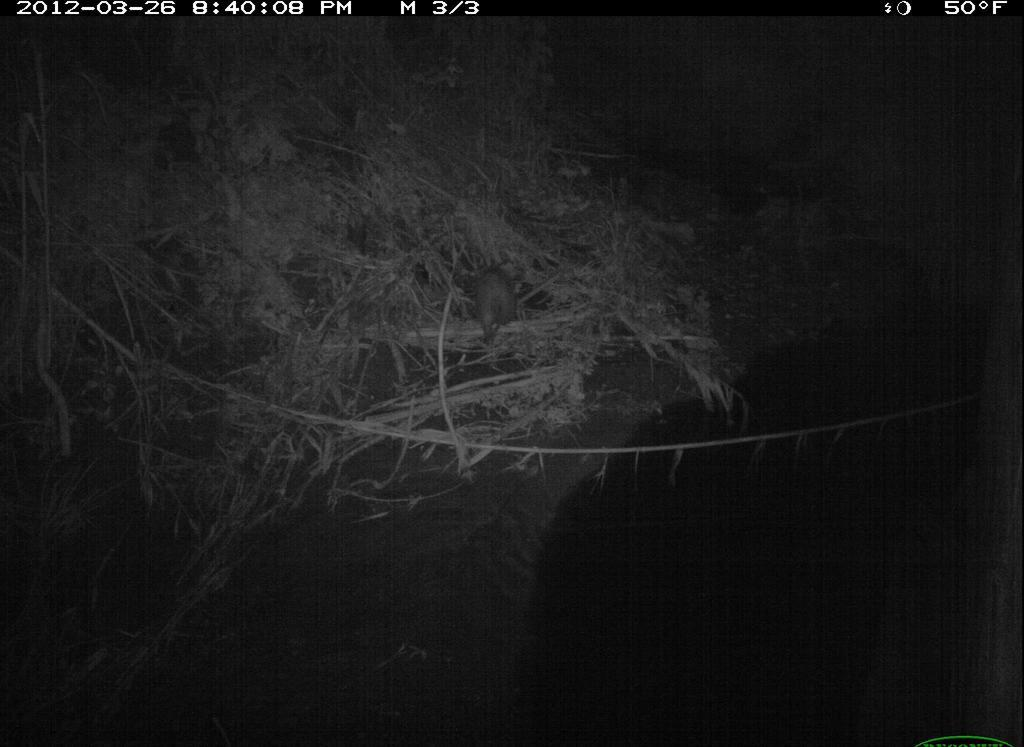opossum: (460, 260, 525, 353)
